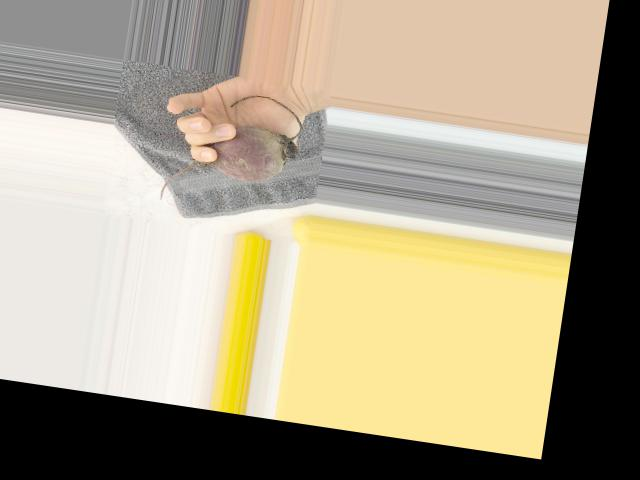beet: (159, 82, 304, 217)
